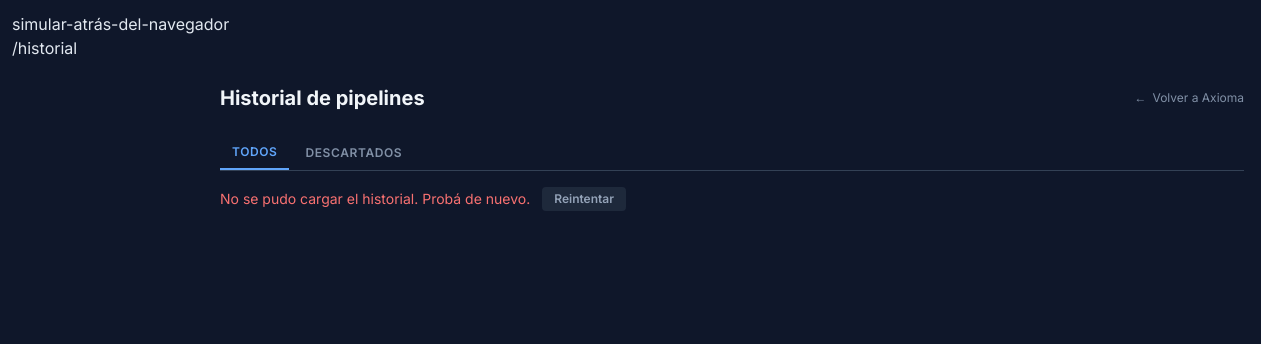
Scenario: Historial › un fallo de red muestra el error, con un botón para reintentar
Expected: the text "No se pudo cargar el historial. Probá de nuevo." is shown, left=220, top=189, right=530, bottom=209
Step 1. Click the button "Reintentar" → point(584, 199), box left=542, top=187, right=626, bottom=211
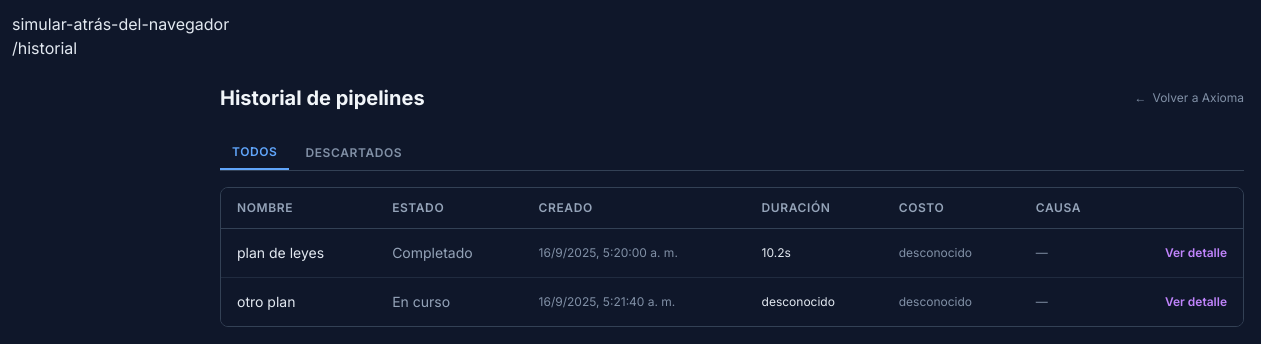
Now the text "plan de leyes" is shown, box left=221, top=228, right=376, bottom=278
